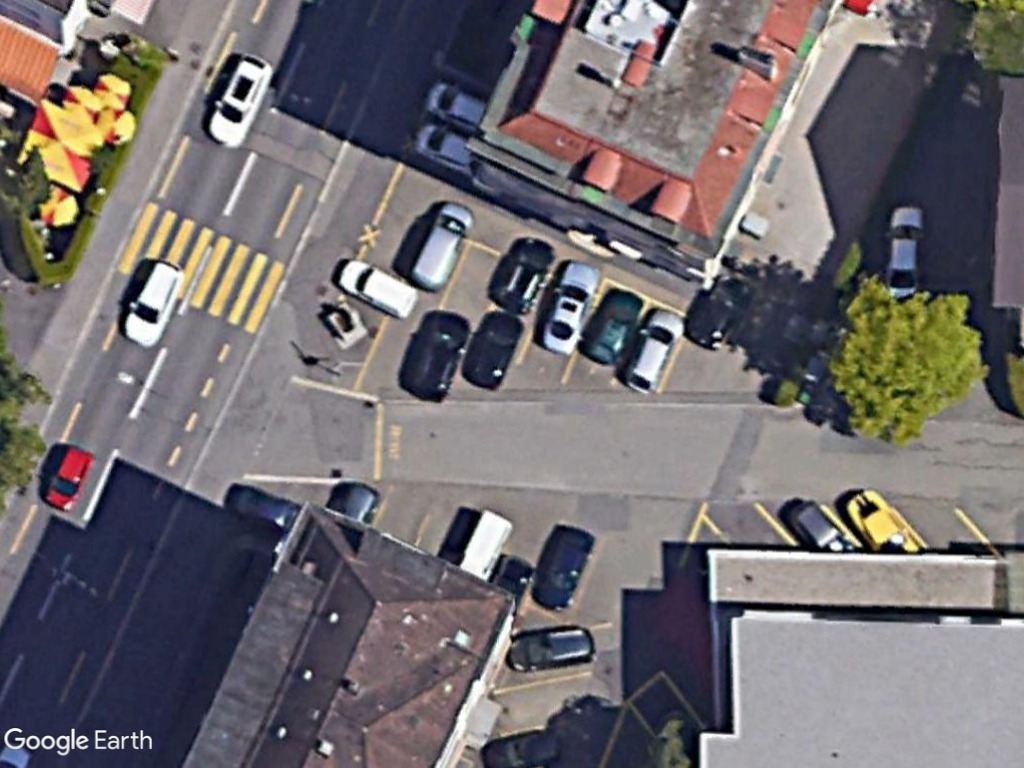car: (205, 49, 274, 148), (536, 258, 603, 355), (120, 259, 183, 349), (622, 310, 686, 395), (333, 257, 418, 316), (883, 201, 929, 298), (40, 442, 93, 510)
van: (408, 202, 475, 293)
